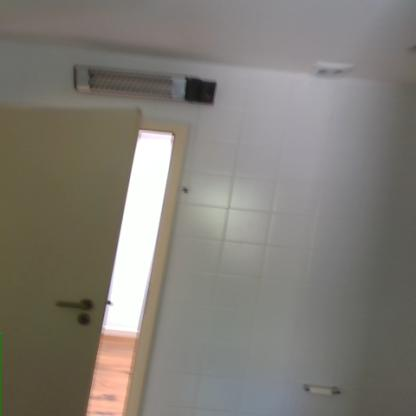semi: (1, 98, 198, 416)
